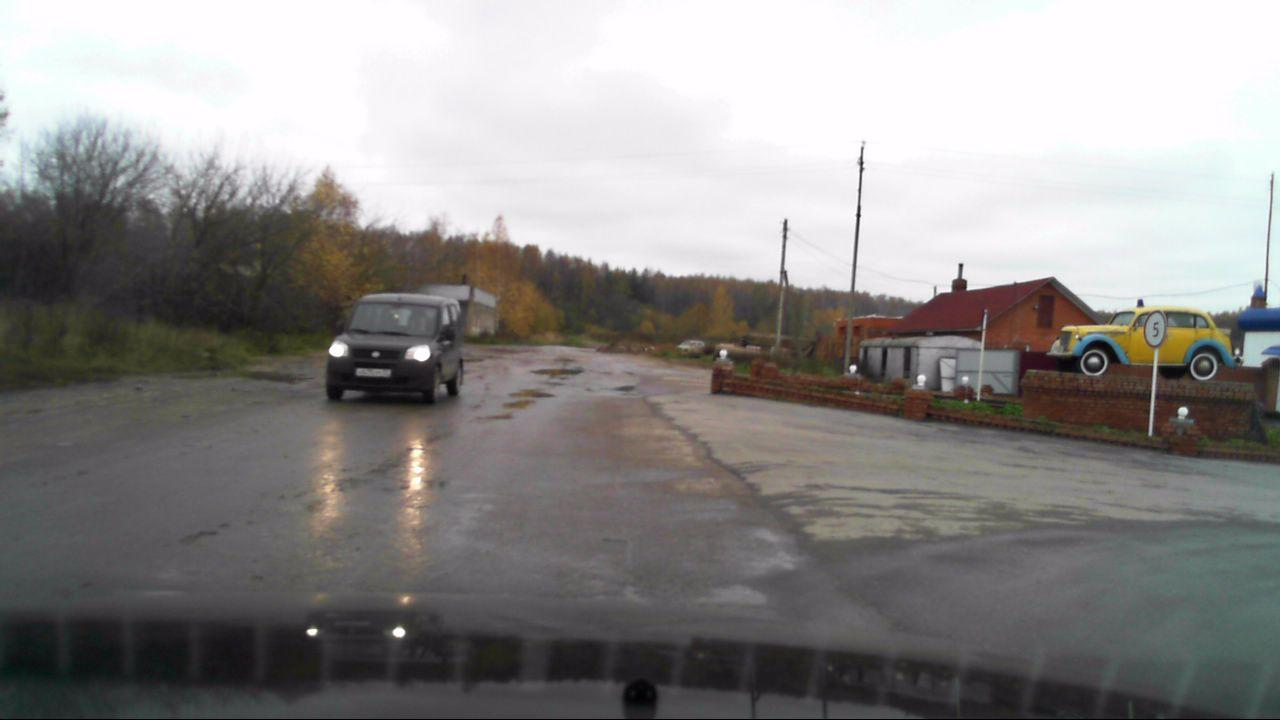road_sign: (1144, 308, 1167, 347)
